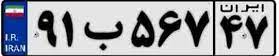character: (82, 11, 127, 56), (126, 5, 156, 53), (183, 5, 211, 50), (155, 4, 183, 48), (58, 6, 82, 50), (36, 7, 60, 49), (218, 13, 244, 51), (244, 14, 270, 50)
